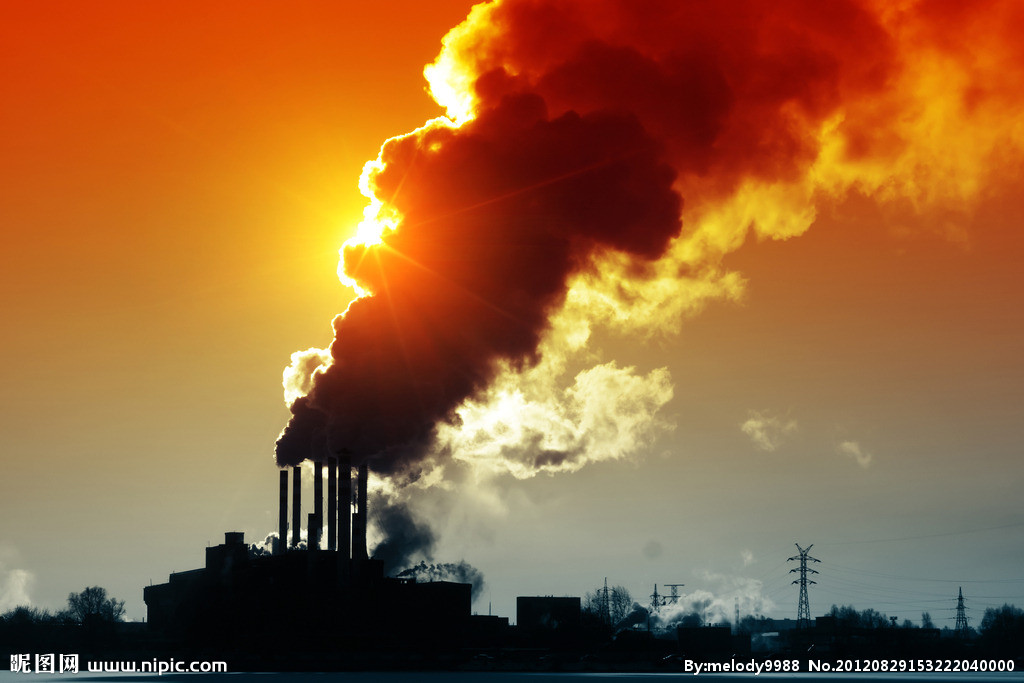dust: (265, 2, 843, 486)
